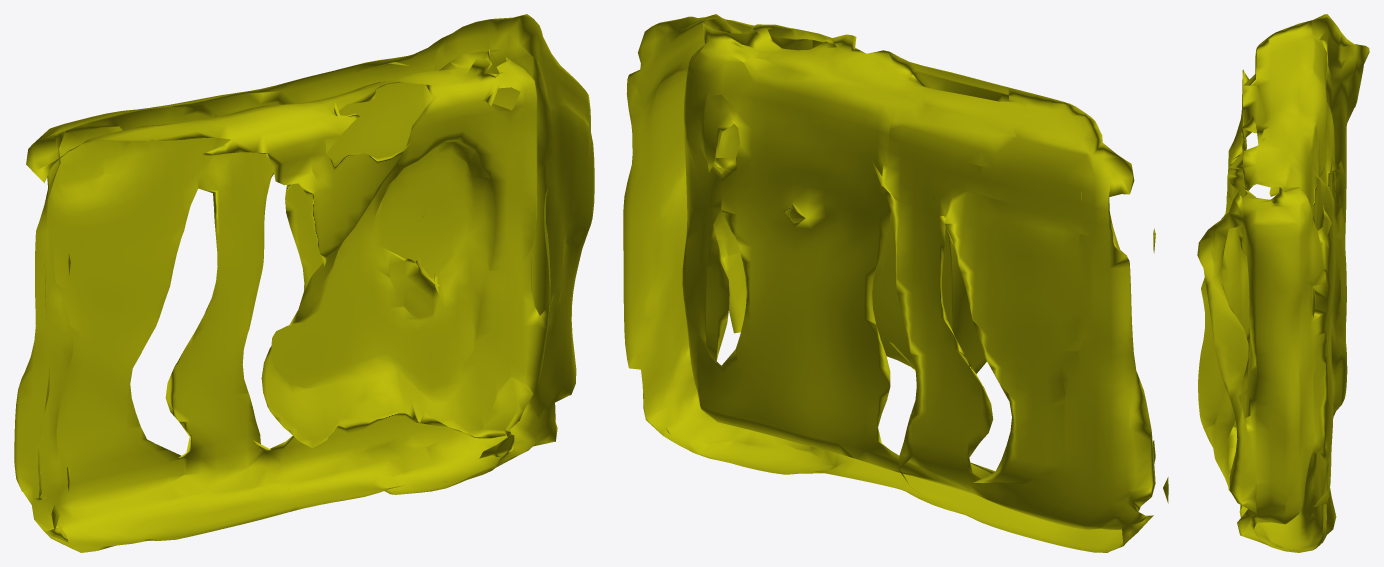
3 renders of one model, left to right at view 1: azimuth 30°, elevation 25°; view 2: azimuth 150°, elevation 25°; view 3: azimuth 270°, elevation 25°, orthographic. The views are drawn at different scales.
Parts seen in each view (by area): view 1: world; view 2: world; view 3: world.
Boxes of the visible parts, x1,y1,x2,y2 form: world: [14, 14, 594, 552]; world: [623, 14, 1168, 552]; world: [1197, 14, 1369, 552].
Size of the model in its own units: 37.05 by 29.48 by 12.26.
